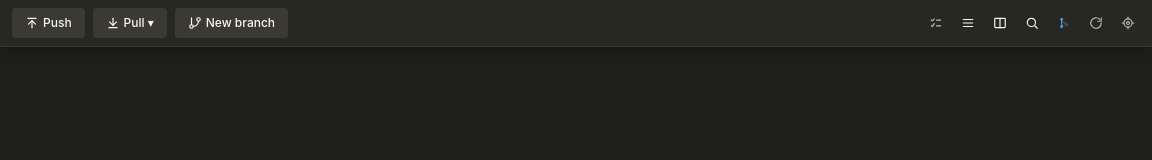
Test: HistoryToolbar › offers fetch and the two pull modes
What coordinates should you click on to do the following:
click the button "Pull ▾"
I would click on:
 (130, 23)
Its box is [93,8,167,38].
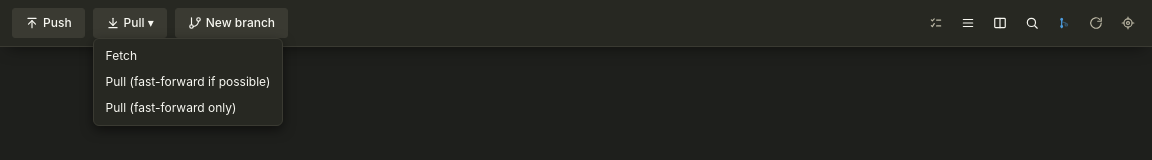
Expected: the menu item "Fetch" is shown, [106,48,137,63]
Expected: the menu item "Pull (fast-forward if possible)" is shown, [106,74,270,89]
Expected: the menu item "Pull (fast-forward only)" is shown, [106,100,236,115]
